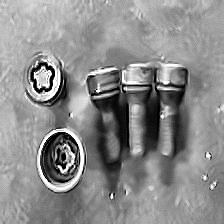defected: (195, 149, 221, 197), (102, 182, 133, 204), (64, 109, 84, 125)
